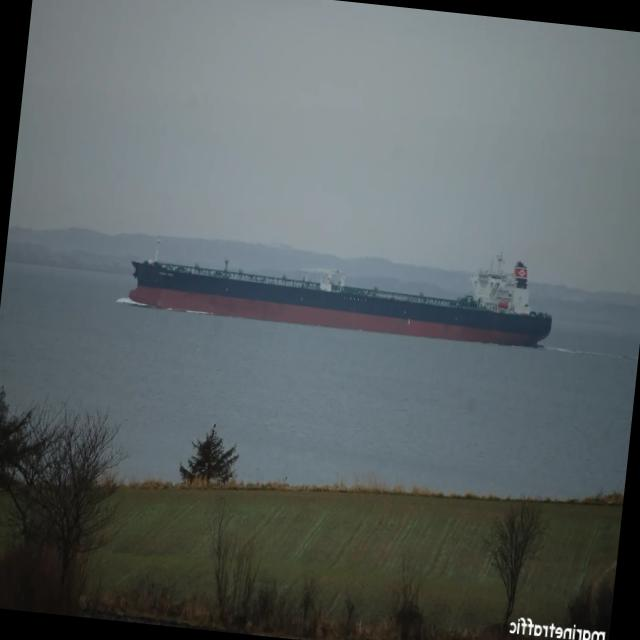Tanker: (122, 255, 551, 347)
